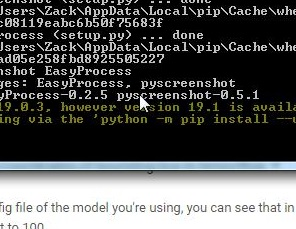cursor: (138, 94, 151, 113)
